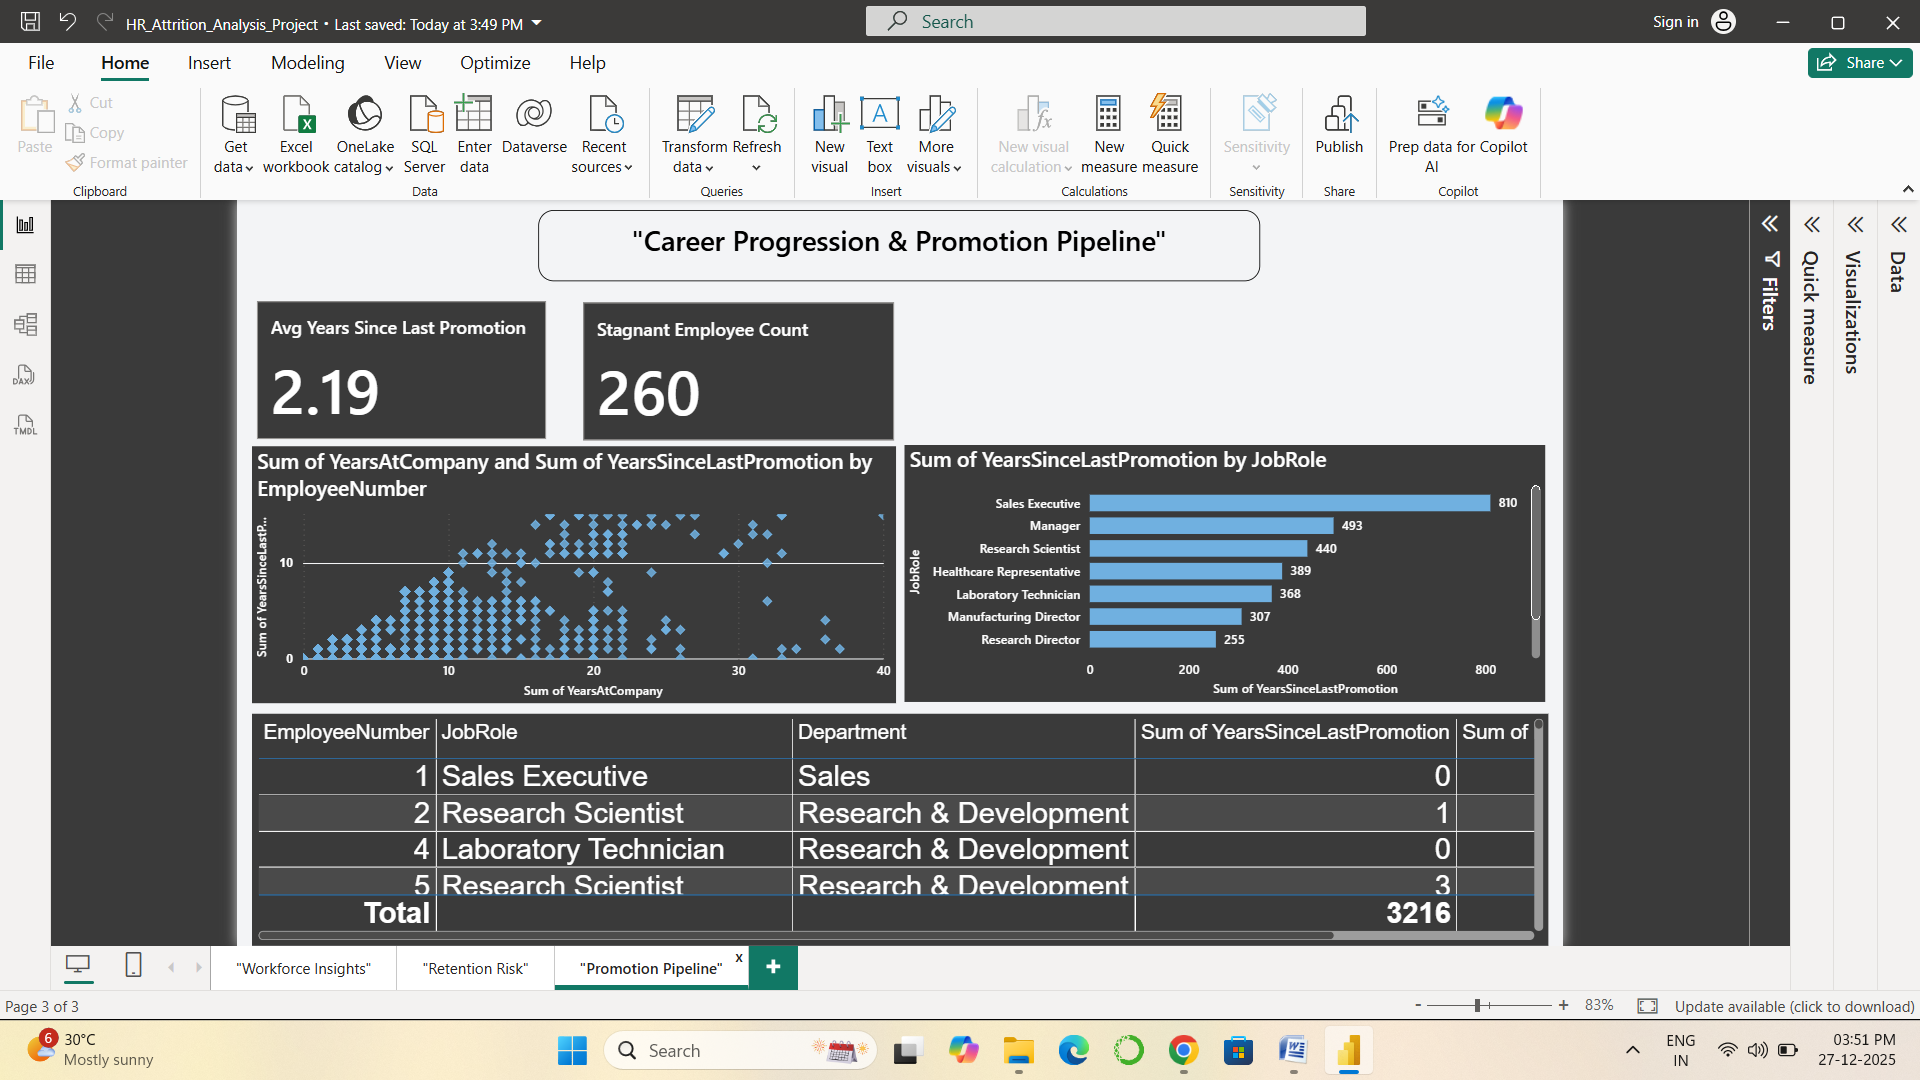

What the dashboard file says about the page in this screenshot:
{"tool":"powerbi","page":{"name":"\"Promotion Pipeline\"","canvas":[1280,720],"ordinal":2},"visuals":[{"type":"textbox","box":[290.9,9.6,697.1,68.6],"z":0},{"type":"cardVisual","fields":{"Data":["powerbi_dept_summary.Avg Years Since Last Promotion"]},"box":[14.3,92.7,289.4,144],"z":1},{"type":"cardVisual","fields":{"Data":["powerbi_dept_summary.Stagnant Employee Count"]},"box":[329.3,94.1,310.7,144],"z":2},{"type":"scatterChart","fields":{"Category":["powerbi_master.EmployeeNumber"],"X":["Sum(powerbi_master.YearsAtCompany)"],"Y":["Sum(powerbi_master.YearsSinceLastPromotion)"]},"box":[14.3,238,621.5,248],"z":3},{"type":"clusteredBarChart","fields":{"Category":["powerbi_master.JobRole"],"Y":["Sum(powerbi_master.YearsSinceLastPromotion)"]},"box":[644.3,236.6,618.6,248],"z":4},{"type":"tableEx","fields":{"Values":["powerbi_master.EmployeeNumber","powerbi_master.JobRole","powerbi_master.Department","Sum(powerbi_master.YearsSinceLastPromotion)","Sum(powerbi_promotions.Promotion_Priority_Rank)"]},"box":[14.3,496,1251.5,223.8],"z":5}]}

Visuals, with their boxes on the page's 1280x720 design canvas (x1, y1, x2, y2). These are canvas units, not pixel positions in the 1920x1080 screenshot, which may show the page scaled, cropped or inside an application window:
textbox: 291,10,988,78
cardVisual - powerbi_dept_summary.Avg Years Since Last Promotion: 14,93,304,237
cardVisual - powerbi_dept_summary.Stagnant Employee Count: 329,94,640,238
scatterChart - powerbi_master.EmployeeNumber x Sum(powerbi_master.YearsAtCompany): 14,238,636,486
clusteredBarChart - powerbi_master.JobRole x Sum(powerbi_master.YearsSinceLastPromotion): 644,237,1263,485
tableEx - powerbi_master.EmployeeNumber x powerbi_master.JobRole: 14,496,1266,720
